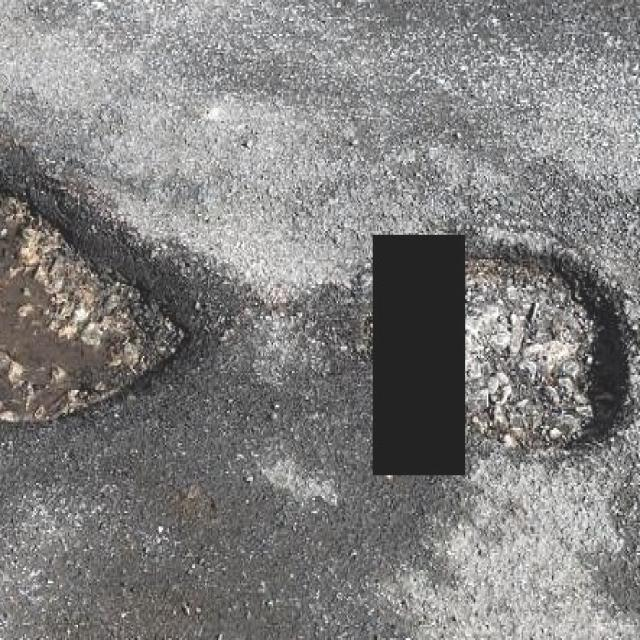road-pothole: (2, 174, 189, 425), (468, 241, 626, 454)
